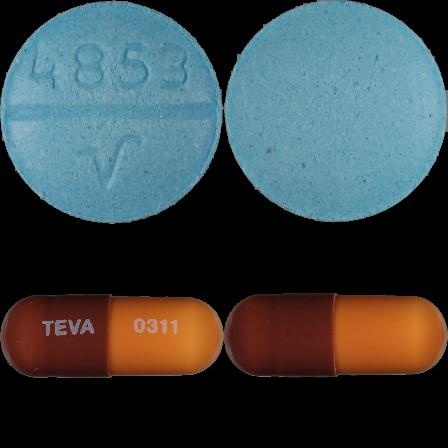33261-342: (0, 0, 224, 224)
